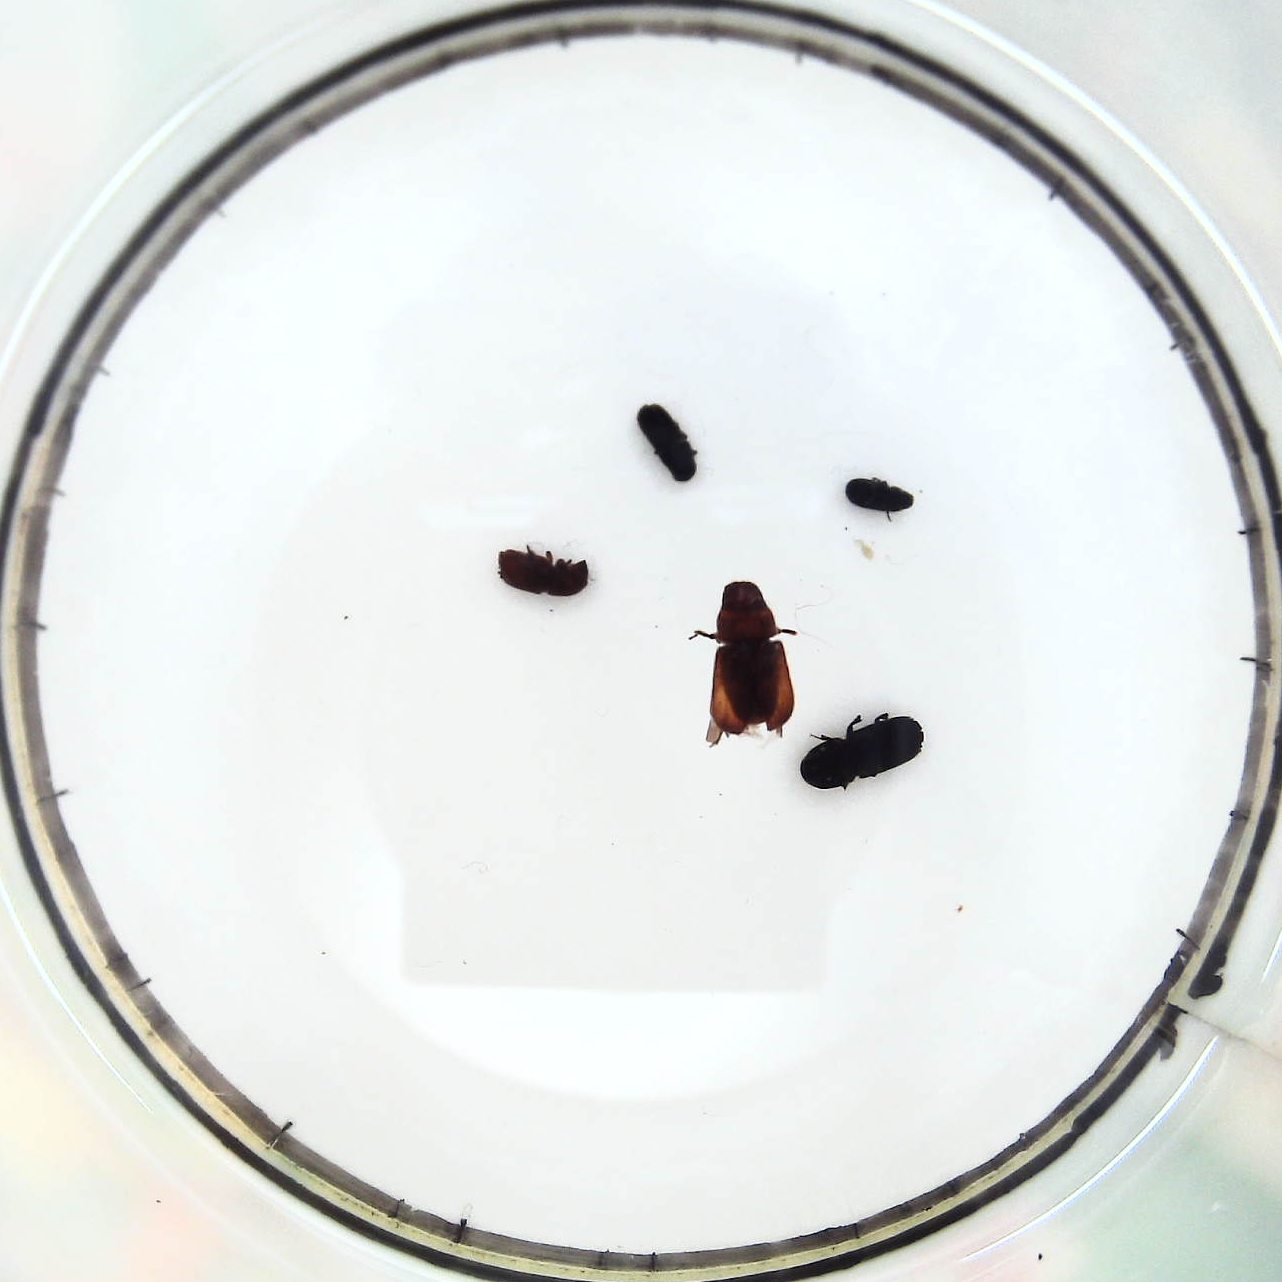Boerner: (803, 713, 927, 788)
Leconte: (706, 579, 803, 740)
Linnaeus: (495, 537, 592, 598)
armandi: (634, 402, 701, 483)
coleoptera: (841, 471, 915, 519)
